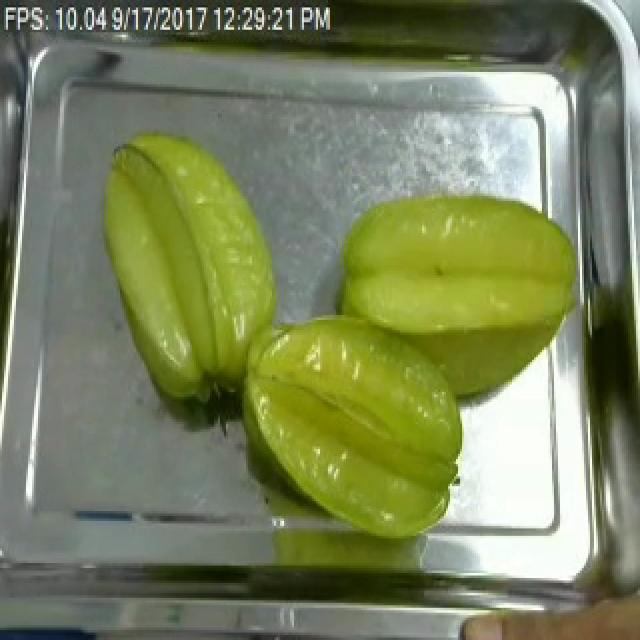fruit: (86, 119, 292, 414), (226, 300, 470, 548), (326, 186, 590, 407)
